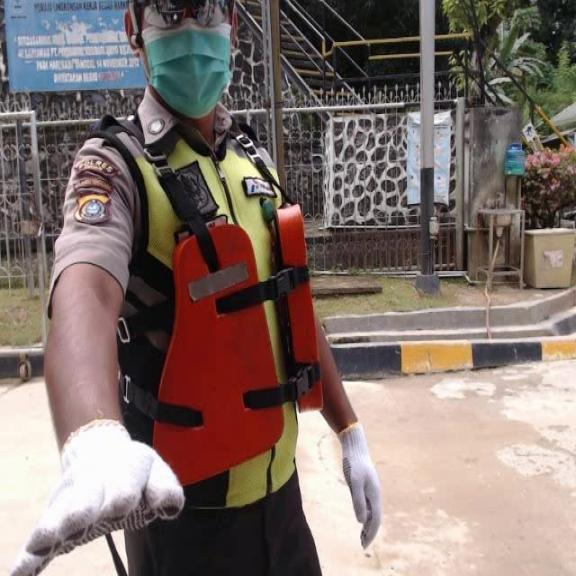safety_vest: (135, 200, 329, 488)
